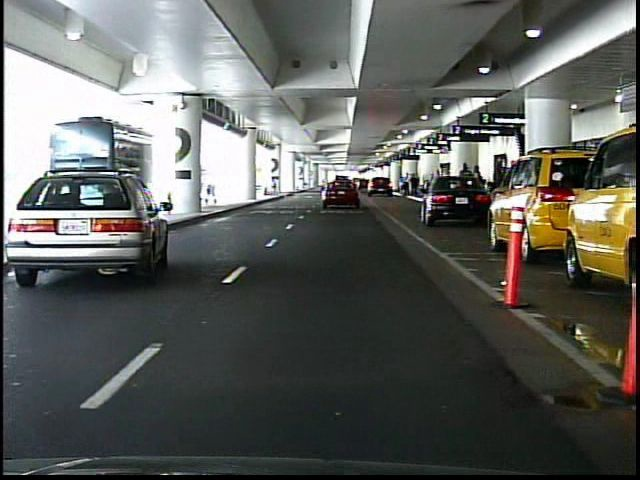person: (458, 161, 474, 206), (471, 164, 485, 206), (403, 171, 412, 197), (411, 173, 419, 197), (397, 174, 404, 190)
